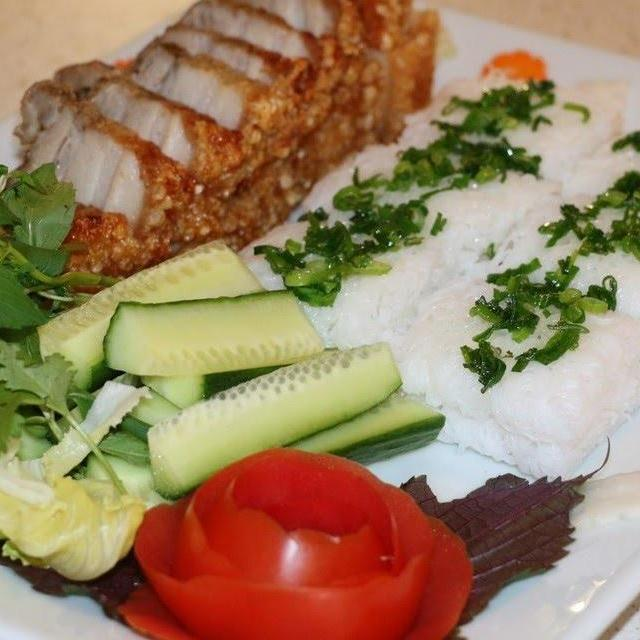banh hoi: (374, 262, 640, 492), (207, 210, 488, 387), (281, 133, 585, 278), (386, 57, 640, 210), (470, 177, 640, 387), (551, 116, 640, 303)
banh hoi heo quay: (0, 14, 640, 640)
thit heo quay: (0, 0, 448, 322)
